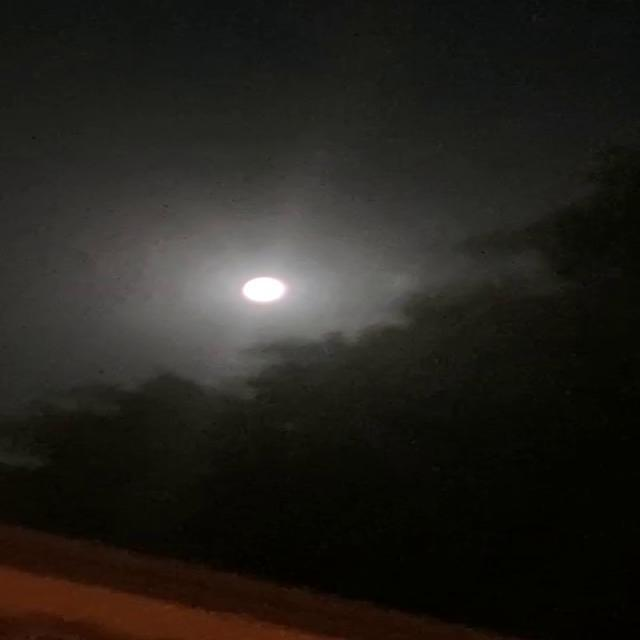moon: (236, 278, 316, 321)
